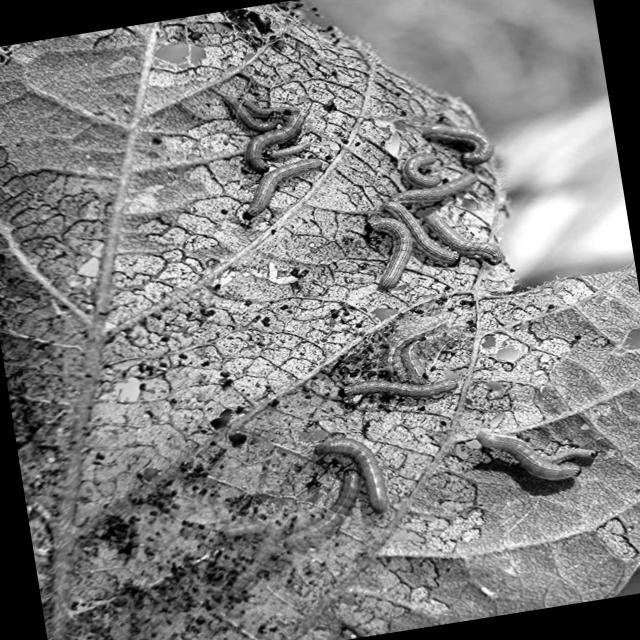Armyworm: (458, 406, 587, 527), (367, 316, 505, 386), (313, 364, 473, 424), (279, 469, 379, 554), (320, 426, 401, 524), (382, 194, 469, 285), (238, 144, 339, 220), (428, 196, 511, 284), (378, 160, 498, 214), (356, 208, 423, 303), (423, 109, 495, 174), (245, 104, 322, 162), (403, 147, 444, 188)
Armyworm_damage: (470, 321, 545, 381), (379, 510, 448, 555), (578, 272, 640, 321), (234, 429, 297, 476), (604, 312, 640, 378)
